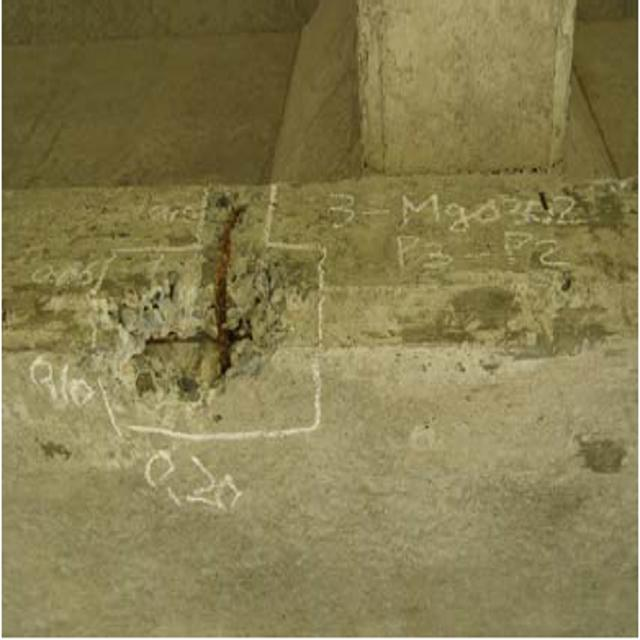spalling: (94, 181, 360, 433)
